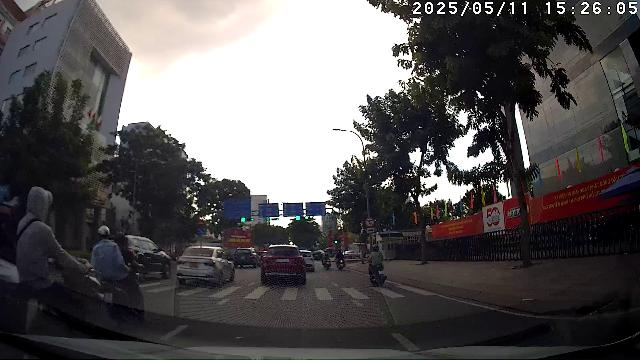137-cam-re-trai-va-re-phai: (365, 217, 375, 227)
